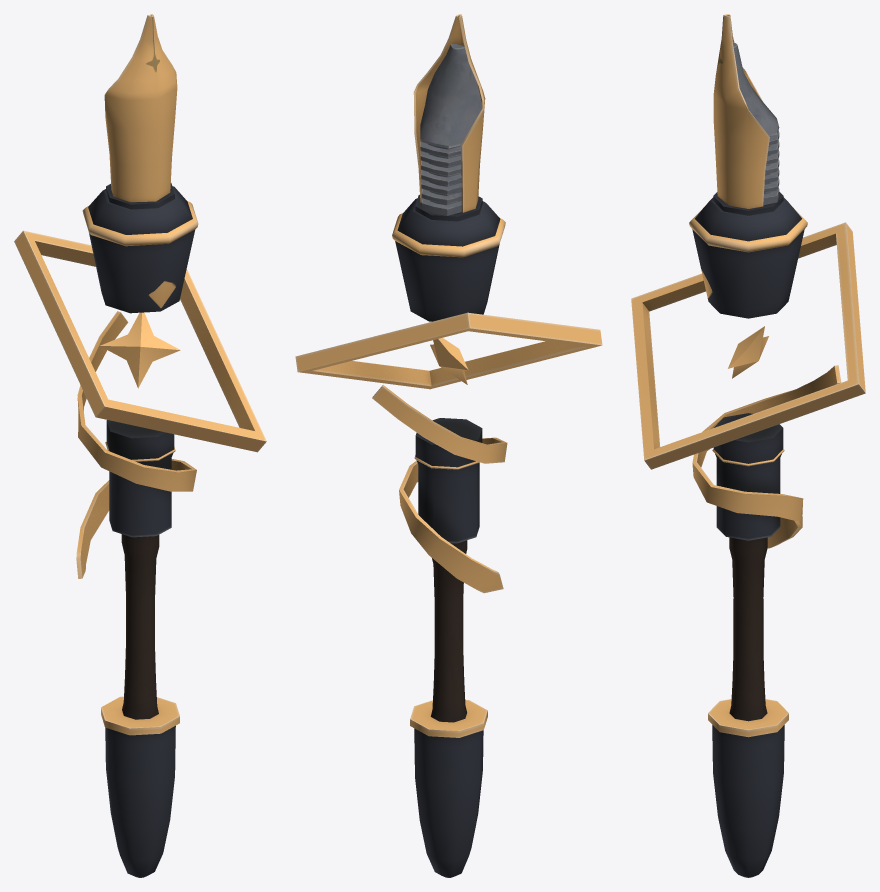
File: Lini_FountainPen.fbx
3 renders of one model, left to right at view 1: azimuth 30°, elevation 25°; view 2: azimuth 150°, elevation 25°; view 3: azimuth 270°, elevation 25°, orthographic.
Parts seen in each view (by area): view 1: Lini_FountainPen; view 2: Lini_FountainPen; view 3: Lini_FountainPen.
Boxes of the visible parts, x1,y1,x2,y2 form: Lini_FountainPen: (14, 14, 266, 877); Lini_FountainPen: (295, 14, 602, 877); Lini_FountainPen: (631, 14, 865, 877).
Bounding box in the file's own units: 4.47 × 18.43 × 4.55.
